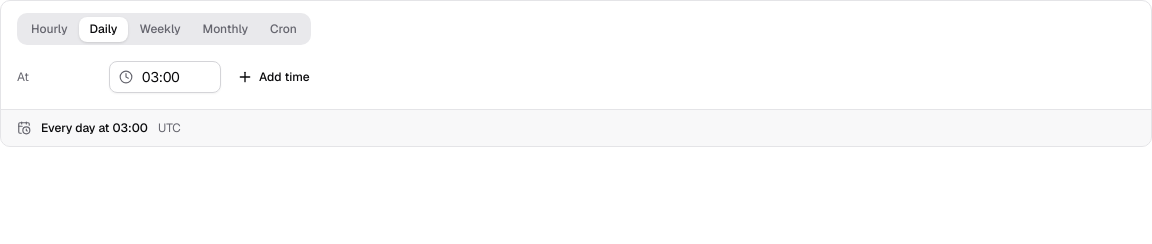
Test case: schedule picker › builds a weekday schedule from the days and says it in words
Click the tab "Weekly": (160, 29) [128,16,192,42]
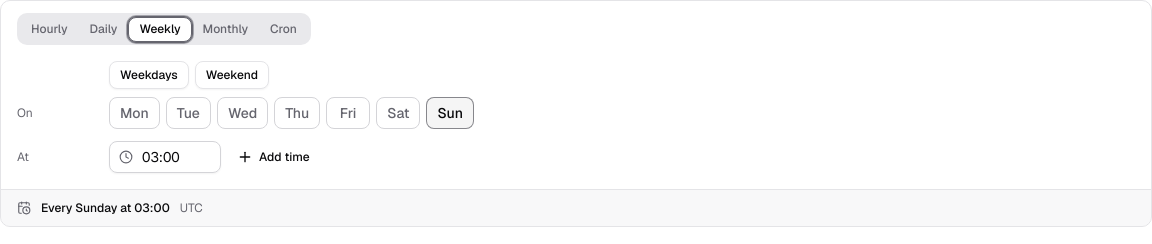
Click the button "Weekdays": (149, 75) [109,61,189,89]
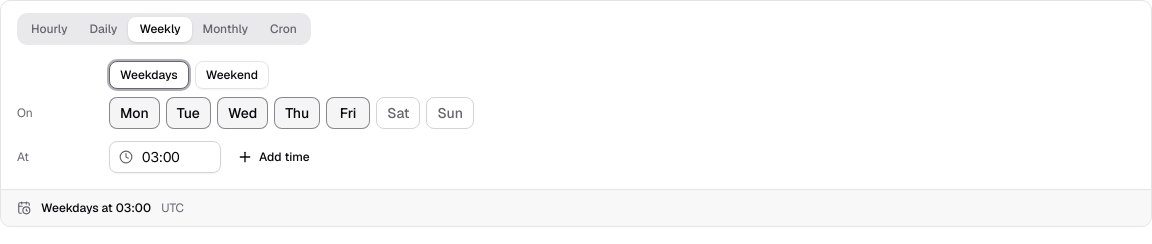
Expected: the text "Weekdays at 03:00" is shown, [41,200,151,216]
